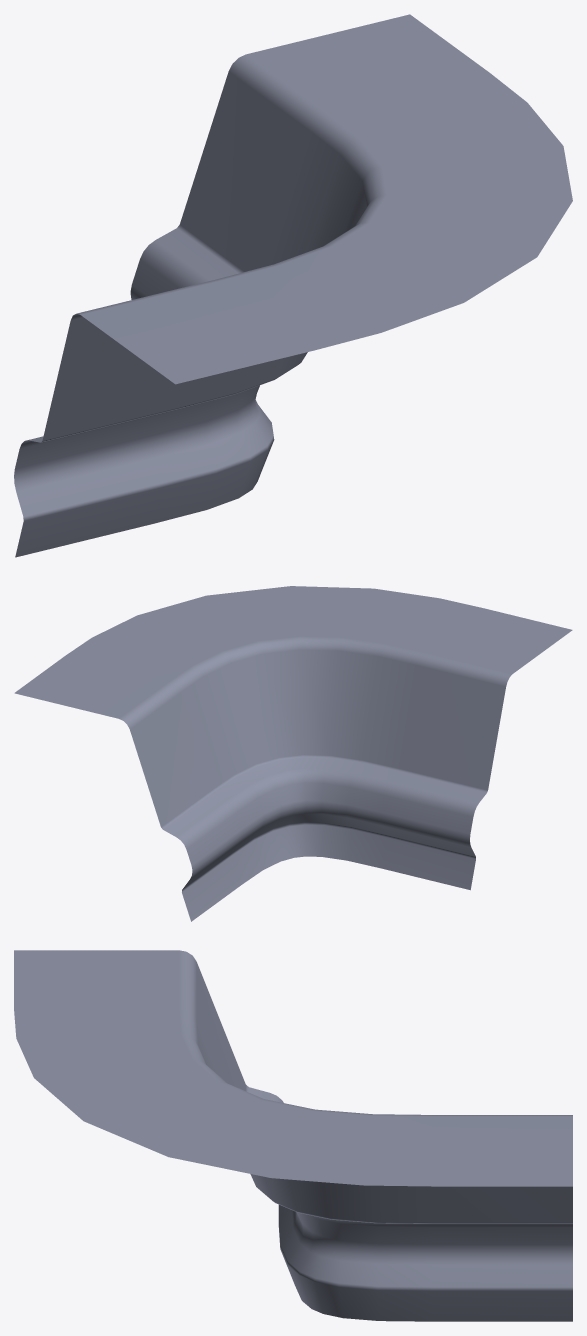
The model's file is corner wall.fbx.
3 views of the same model, one above another, from view 1: azimuth 30°, elevation 25°; view 2: azimuth 150°, elevation 25°; view 3: azimuth 270°, elevation 25° (orthographic). The views are drawn at different scales.
Parts seen in each view (by area): view 1: pCube107; view 2: pCube107; view 3: pCube107.
Boxes of the visible parts, bbox=[...] form: pCube107: bbox=[14, 14, 572, 557]; pCube107: bbox=[14, 586, 572, 921]; pCube107: bbox=[14, 950, 572, 1321].
Size of the model in its own units: 200 by 100 by 200.
